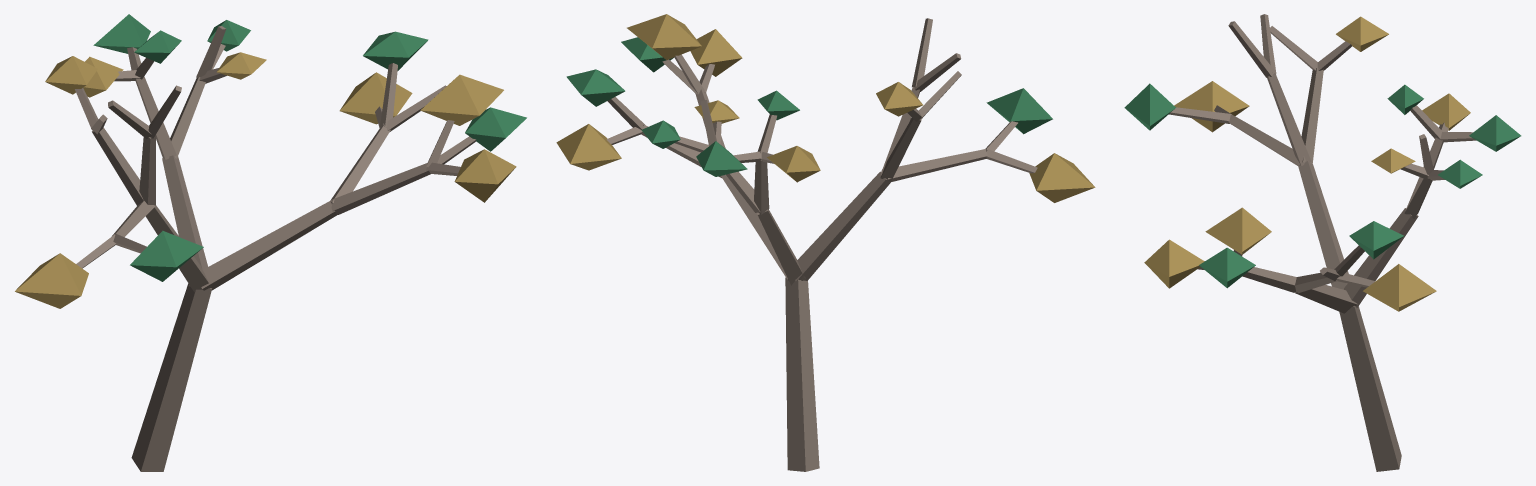
Rendered from bush_thorn_c.glb.
3 views of the same model, side by side, from view 1: azimuth 30°, elevation 25°; view 2: azimuth 150°, elevation 25°; view 3: azimuth 270°, elevation 25° (orthographic). The views are drawn at different scales.
Visible parts, largest first — view 1: BushThornC; view 2: BushThornC; view 3: BushThornC.
Boxes of the visible parts, x1,y1,x2,y2 form: BushThornC: (15, 14, 526, 471); BushThornC: (556, 14, 1095, 471); BushThornC: (1124, 14, 1521, 471).
Size of the model in its own units: 1.04 by 0.8715 by 0.7437.
